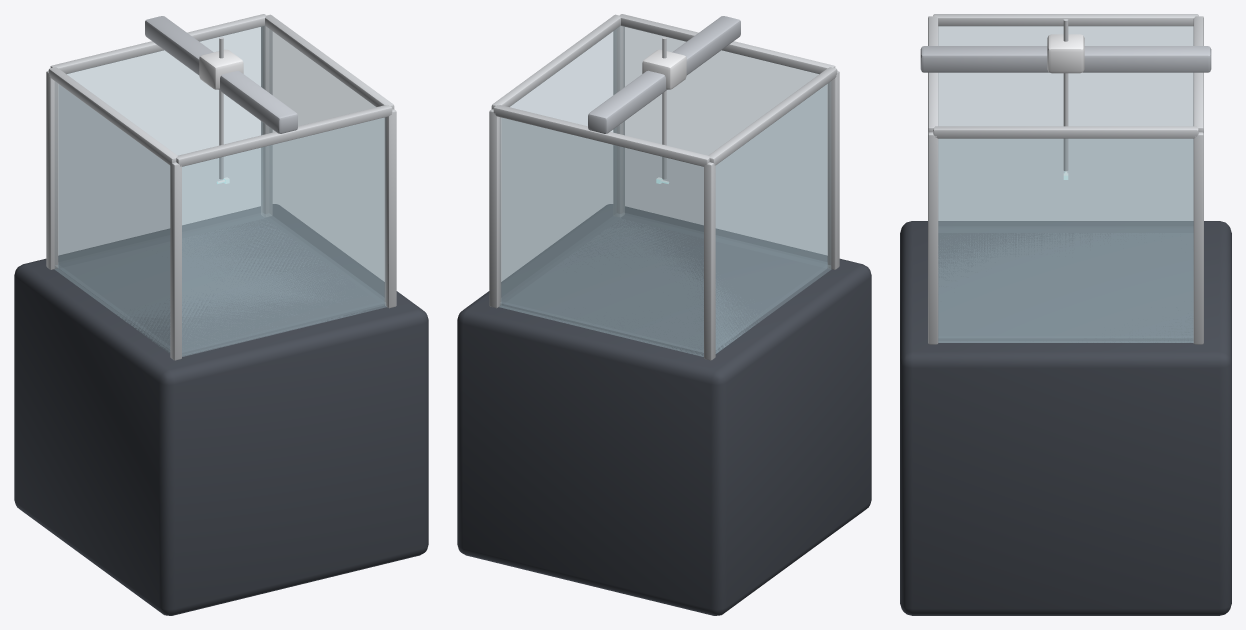
File: WaterTank.fbx
3 renders of one model, left to right at view 1: azimuth 30°, elevation 25°; view 2: azimuth 150°, elevation 25°; view 3: azimuth 270°, elevation 25°, orthographic. The views are drawn at different scales.
Visible parts, largest first — view 1: WT_Cart, WT_Walls, WT_Frame, WT_BridgeBar, WT_CarriageBox; view 2: WT_Cart, WT_Walls, WT_Frame, WT_BridgeBar, WT_CarriageBox; view 3: WT_Cart, WT_Walls, WT_Frame, WT_BridgeBar, WT_CarriageBox, WT_Rod.
Part boxes in pixels (left/top/right/bottom): WT_Cart: left=14, top=204, right=428, bottom=615; WT_Walls: left=54, top=26, right=386, bottom=356; WT_Frame: left=46, top=14, right=396, bottom=360; WT_BridgeBar: left=145, top=16, right=297, bottom=133; WT_CarriageBox: left=199, top=49, right=243, bottom=89; WT_Cart: left=457, top=204, right=871, bottom=615; WT_Walls: left=499, top=26, right=830, bottom=356; WT_Frame: left=489, top=14, right=839, bottom=360; WT_BridgeBar: left=588, top=16, right=740, bottom=133; WT_CarriageBox: left=642, top=49, right=686, bottom=89; WT_Cart: left=900, top=221, right=1231, bottom=615; WT_Walls: left=938, top=26, right=1193, bottom=342; WT_Frame: left=928, top=14, right=1203, bottom=344; WT_BridgeBar: left=920, top=46, right=1211, bottom=72; WT_CarriageBox: left=1047, top=34, right=1084, bottom=73; WT_Rod: left=1063, top=19, right=1068, bottom=171.
Bounding box in the file's own units: 0.8 × 1.41 × 0.8.
